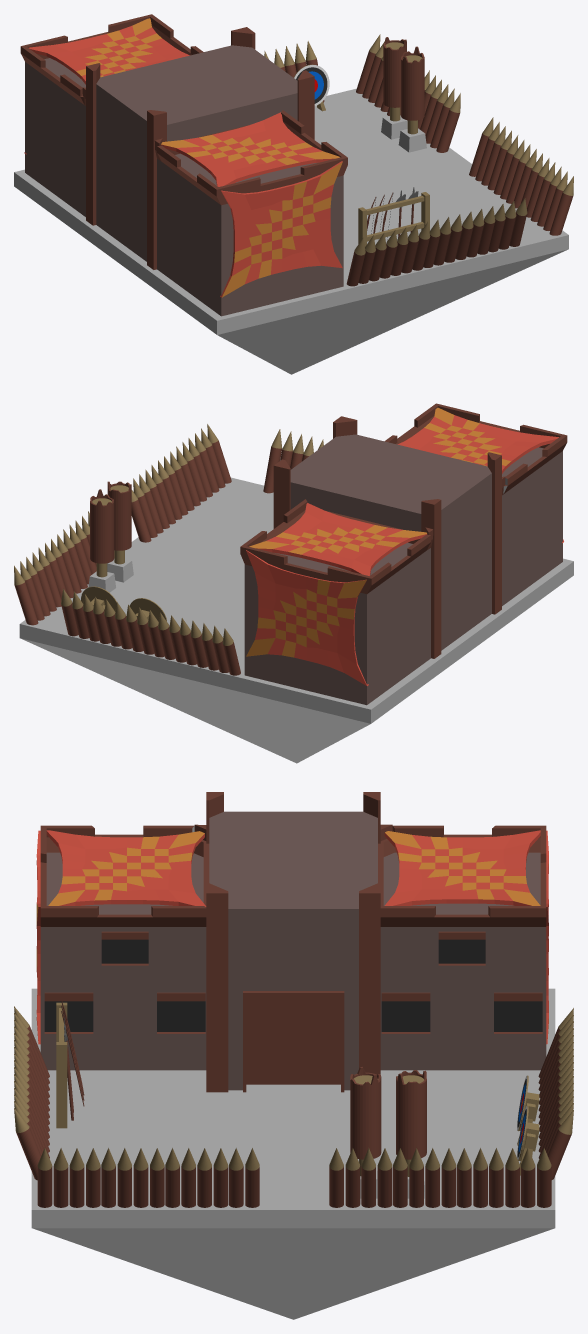
The model's file is Building Barracks T2.fbx.
3 renders of one model, top to bottom at view 1: azimuth 30°, elevation 25°; view 2: azimuth 150°, elevation 25°; view 3: azimuth 270°, elevation 25°, orthographic. The views are drawn at different scales.
Parts seen in each view (by area): view 1: Barracks T2; view 2: Barracks T2; view 3: Barracks T2.
Boxes of the visible parts, box(x1,y1,x2,y2) form: Barracks T2: box(14, 14, 573, 374); Barracks T2: box(14, 403, 573, 763); Barracks T2: box(14, 792, 573, 1319).
Bounding box in the file's own units: 1645 × 1415 × 1710.
